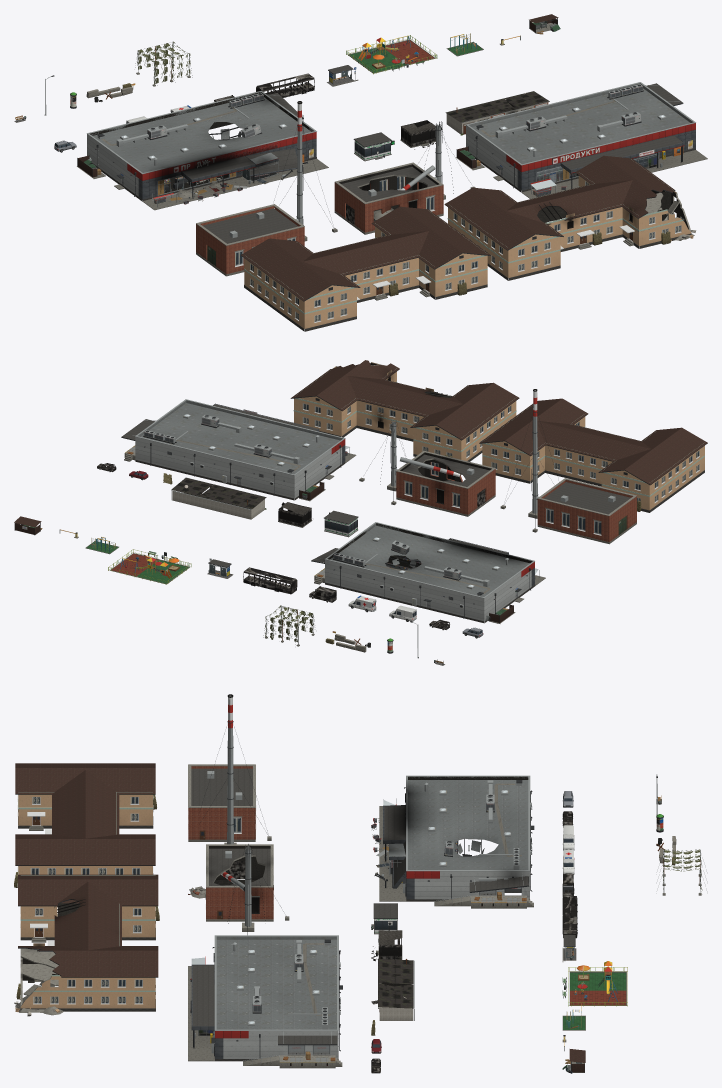
The model's file is modern.glb.
3 renders of one model, top to bottom at view 1: azimuth 30°, elevation 25°; view 2: azimuth 150°, elevation 25°; view 3: azimuth 270°, elevation 25°, orthographic. The views are drawn at different scales.
Parts seen in each view (by area): view 1: supermarket_damaged_geo, kindergarten_geo, supermarket_geo, kindergarten_damaged_geo, boiler_house_damaged_geo, boiler_house_geo, playground_modern_geo, garage_row_geo, antidrone_net_frame_geo, pharmacy_kiosk_geo, kiosk_modern_burnt_geo, bus_burnt_modern_geo; view 2: supermarket_geo, supermarket_damaged_geo, kindergarten_geo, kindergarten_damaged_geo, boiler_house_geo, boiler_house_damaged_geo, garage_row_geo, playground_modern_geo, antidrone_net_frame_geo, bus_burnt_modern_geo, pharmacy_kiosk_geo, kiosk_modern_burnt_geo; view 3: supermarket_geo, supermarket_damaged_geo, kindergarten_damaged_geo, kindergarten_geo, boiler_house_geo, boiler_house_damaged_geo, playground_modern_geo, garage_row_geo, kiosk_modern_burnt_geo, pharmacy_kiosk_geo, antidrone_net_frame_geo, bus_burnt_modern_geo.
Boxes of the visible parts, bbox=[...] form: supermarket_damaged_geo: bbox=[77, 90, 328, 210]; kindergarten_geo: bbox=[241, 206, 490, 331]; supermarket_geo: bbox=[455, 82, 707, 198]; kindergarten_damaged_geo: bbox=[444, 155, 696, 280]; boiler_house_damaged_geo: bbox=[334, 121, 475, 234]; boiler_house_geo: bbox=[196, 101, 337, 276]; playground_modern_geo: bbox=[346, 35, 437, 74]; garage_row_geo: bbox=[445, 91, 549, 135]; antidrone_net_frame_geo: bbox=[135, 41, 192, 86]; pharmacy_kiosk_geo: bbox=[353, 132, 394, 161]; kiosk_modern_burnt_geo: bbox=[400, 120, 441, 149]; bus_burnt_modern_geo: bbox=[256, 73, 314, 97]; supermarket_geo: bbox=[121, 399, 356, 501]; supermarket_damaged_geo: bbox=[311, 522, 545, 623]; kindergarten_geo: bbox=[479, 398, 707, 512]; kindergarten_damaged_geo: bbox=[290, 360, 519, 461]; boiler_house_geo: bbox=[500, 389, 636, 544]; boiler_house_damaged_geo: bbox=[359, 419, 495, 516]; garage_row_geo: bbox=[171, 477, 266, 519]; playground_modern_geo: bbox=[108, 549, 191, 584]; antidrone_net_frame_geo: bbox=[263, 605, 314, 646]; bus_burnt_modern_geo: bbox=[243, 567, 297, 594]; pharmacy_kiosk_geo: bbox=[324, 510, 358, 537]; kiosk_modern_burnt_geo: bbox=[278, 502, 312, 527]; supermarket_geo: bbox=[188, 935, 342, 1068]; supermarket_damaged_geo: bbox=[371, 775, 534, 908]; kindergarten_damaged_geo: bbox=[14, 874, 159, 1016]; kindergarten_geo: bbox=[14, 763, 156, 887]; boiler_house_geo: bbox=[188, 694, 271, 844]; boiler_house_damaged_geo: bbox=[188, 844, 289, 934]; playground_modern_geo: bbox=[562, 961, 627, 1006]; garage_row_geo: bbox=[371, 958, 414, 1020]; kiosk_modern_burnt_geo: bbox=[371, 930, 402, 961]; pharmacy_kiosk_geo: bbox=[371, 903, 397, 934]; antidrone_net_frame_geo: bbox=[662, 849, 702, 895]; bus_burnt_modern_geo: bbox=[562, 895, 577, 938].
Size of the model in its own units: 116 by 30.63 by 124.
Materials: 2 (2 with a texture image).
